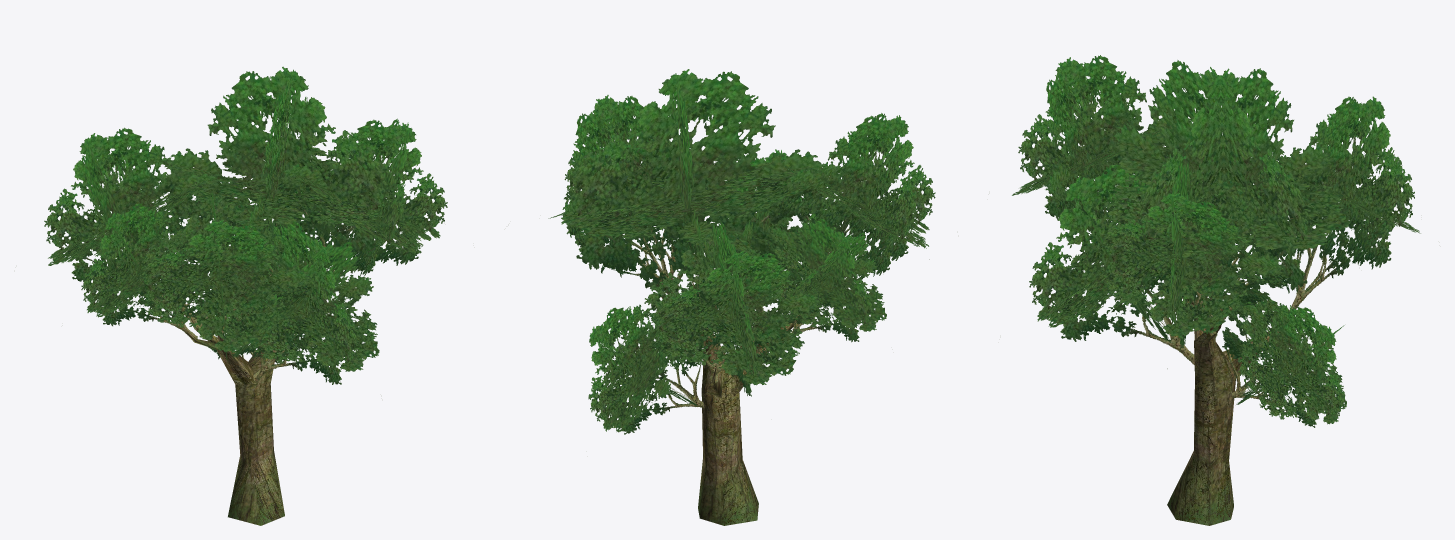
The model's file is cj_graveyard_tree05.glb.
3 renders of one model, left to right at view 1: azimuth 30°, elevation 25°; view 2: azimuth 150°, elevation 25°; view 3: azimuth 270°, elevation 25°, orthographic. The views are drawn at different scales.
Visible parts, largest first — view 1: cj_graveyard_tree05 (×2); view 2: cj_graveyard_tree05 (×2); view 3: cj_graveyard_tree05 (×2).
Part boxes in pixels (box(x1,y1,x2,y2)): cj_graveyard_tree05 (×2): box(44, 66, 447, 525); cj_graveyard_tree05 (×2): box(548, 69, 935, 525); cj_graveyard_tree05 (×2): box(1012, 55, 1420, 525).
Bounding box in the file's own units: 32.93 × 39.79 × 31.33.
Materials: 2 (2 with a texture image).
